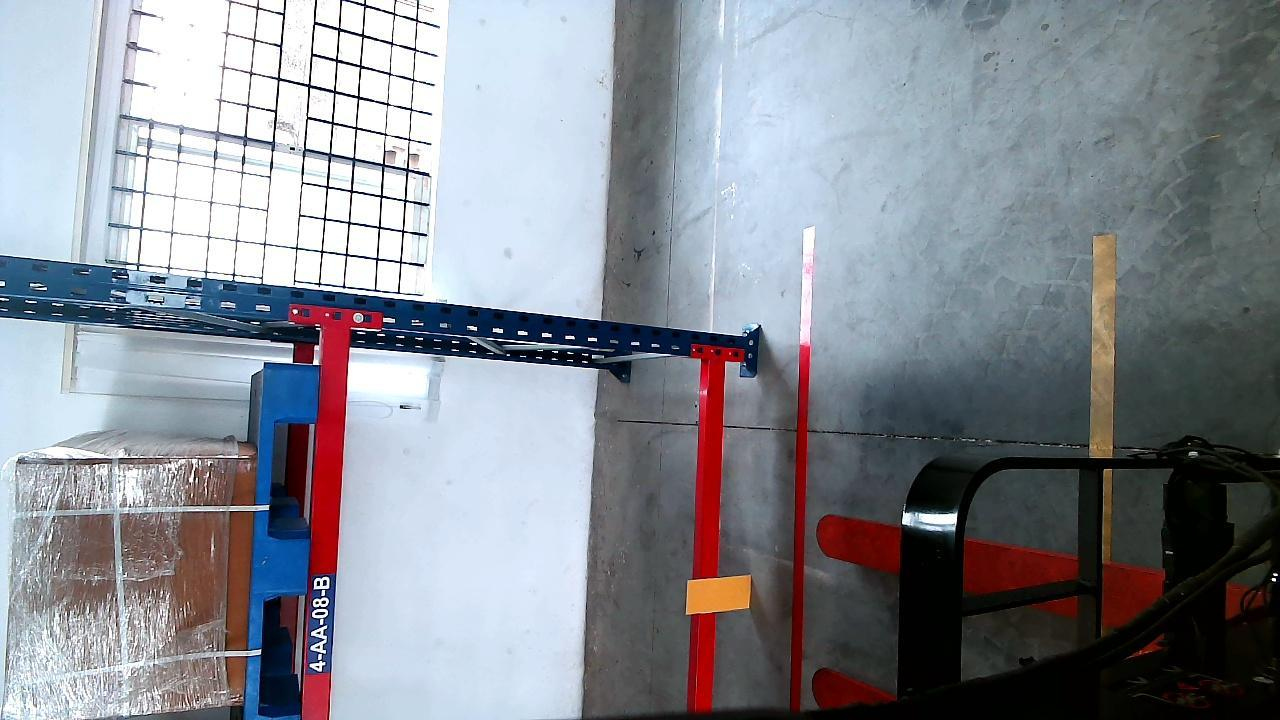red_line: (788, 225, 815, 712)
yellow_line: (1092, 229, 1115, 469)
